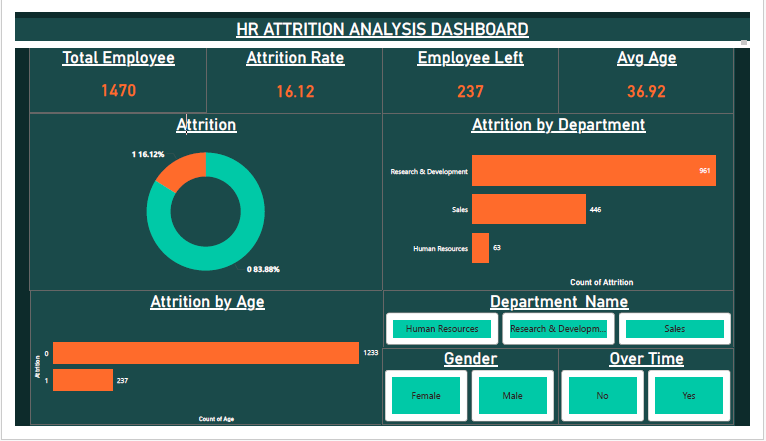

The dashboard page shown, as its layout file describes it:
{"tool":"powerbi","page":{"name":"Executive Overview","canvas":[1280,720],"ordinal":0},"visuals":[{"type":"card","title":"Total Employee","fields":{"Values":["CountNonNull(hr_attrition_cleaned.Age)"]},"box":[23.6,59,309.7,116.5],"z":0},{"type":"card","title":"Attrition Rate","fields":{"Values":["hr_attrition_cleaned.Attrition Rate"]},"box":[333.1,59.5,307.6,116.2],"z":1000},{"type":"card","title":"Employee Left","fields":{"Values":["hr_attrition_cleaned.Employees Left"]},"box":[639.2,59.5,307.6,116.2],"z":2000},{"type":"card","title":"Avg Age","fields":{"Values":["Avg(hr_attrition_cleaned.Age)"]},"box":[946.8,59.5,307.6,116.2],"z":3000},{"type":"donutChart","title":"Attrition","fields":{"Category":["hr_attrition_cleaned.Attrition"],"Y":["CountNonNull(hr_attrition_cleaned.Attrition)"]},"box":[24.1,175.7,615.1,309],"z":4000},{"type":"textbox","title":"HR ATTRITION ANALYSIS DASHBOARD","box":[0,9.9,1279.8,49.6],"z":5000},{"type":"barChart","title":"Attrition by Department","fields":{"Category":["hr_attrition_cleaned (1).Department_Name"],"Y":["CountNonNull(hr_attrition_cleaned (1).Attrition)"]},"box":[639.2,175.7,615.1,309],"z":6000},{"type":"barChart","title":"Attrition by Age","fields":{"Category":["hr_attrition_cleaned.Attrition"],"Y":["CountNonNull(hr_attrition_cleaned.Age)"]},"box":[25.5,484.7,615.1,235.3],"z":7000},{"type":"advancedSlicerVisual","fields":{"Values":["hr_attrition_cleaned (1).Department_Name"]},"box":[640.6,484.7,613.7,100.6],"z":8000},{"type":"advancedSlicerVisual","fields":{"Values":["hr_attrition_cleaned (1).Gender_Name"]},"box":[639.2,585.4,307.6,134.6],"z":9000},{"type":"advancedSlicerVisual","fields":{"Values":["hr_attrition_cleaned (1).OverTime_Name"]},"box":[946.8,585.4,307.6,134.6],"z":10000}]}

Visuals, with their boxes in screenshot pixels (x1, y1, x2, y2), scaled from the page's 1280x720 canvas onto the 766x441 screenshot:
"Total Employee" card: bbox=[14, 36, 199, 107]
"Attrition Rate" card: bbox=[199, 36, 383, 108]
"Employee Left" card: bbox=[383, 36, 567, 108]
"Avg Age" card: bbox=[567, 36, 751, 108]
"Attrition" donutChart: bbox=[14, 108, 383, 297]
"HR ATTRITION ANALYSIS DASHBOARD" textbox: bbox=[0, 6, 765, 36]
"Attrition by Department" barChart: bbox=[383, 108, 751, 297]
"Attrition by Age" barChart: bbox=[15, 297, 383, 440]
advancedSlicerVisual - hr_attrition_cleaned (1).Department_Name: bbox=[383, 297, 751, 358]
advancedSlicerVisual - hr_attrition_cleaned (1).Gender_Name: bbox=[383, 359, 567, 440]
advancedSlicerVisual - hr_attrition_cleaned (1).OverTime_Name: bbox=[567, 359, 751, 440]
